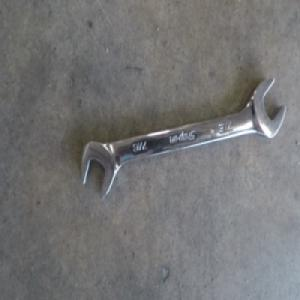Wrench: (80, 77, 285, 201)
